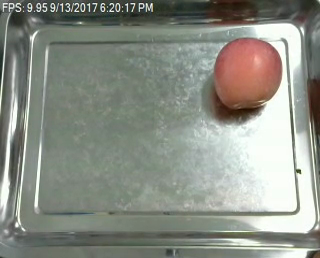Apple: (208, 37, 286, 111)
